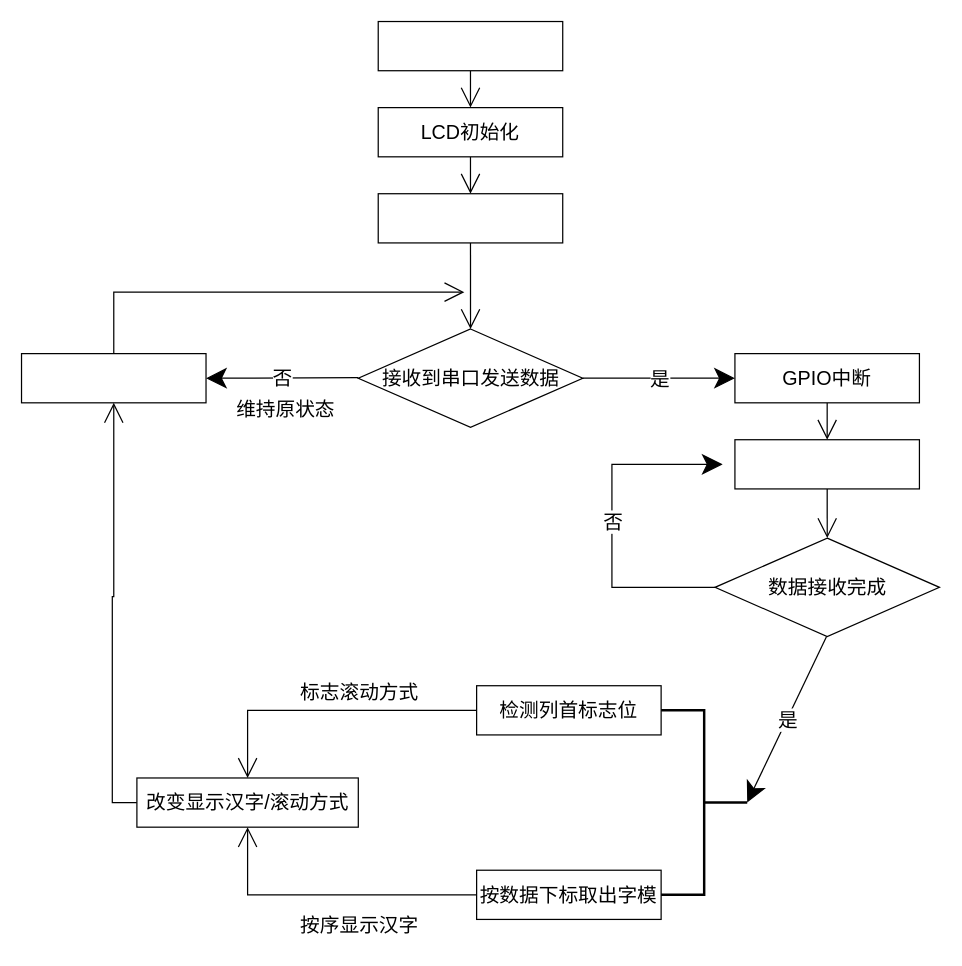
Image size: 962x966. Some labels were removed from this diagram. Each missing label, with the centre of its shape:
"LCD循环滚动" belongs at [113,377].
"USART串口初始化" belongs at [470,217].
"系统初始化" belongs at [470,45].
"逐个字节接收数据" belongs at [826,463].
